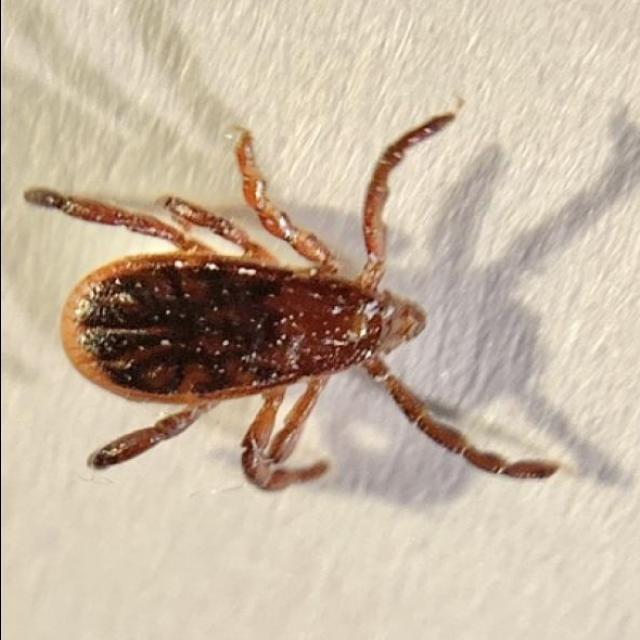Rhipicephalus Sanguineus-M: (20, 112, 555, 494)
